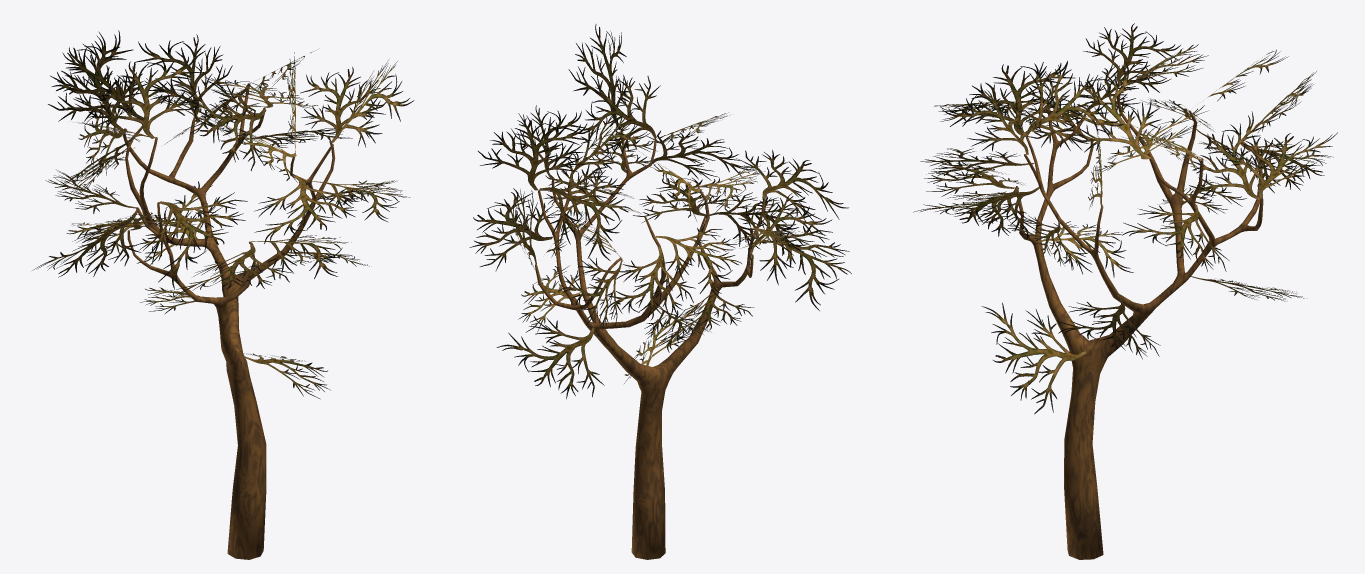
The model's file is Dead Tree.fbx.
The picture shows the model from 3 angles, left to right: view 1: azimuth 30°, elevation 25°; view 2: azimuth 150°, elevation 25°; view 3: azimuth 270°, elevation 25°; orthographic projection. The views are drawn at different scales.
Visible parts, largest first — view 1: Dead Tree; view 2: Dead Tree; view 3: Dead Tree.
Part boxes in pixels (x1,y1,x2,y2): Dead Tree: [32, 30, 414, 559]; Dead Tree: [469, 24, 851, 559]; Dead Tree: [913, 23, 1337, 559].
Size of the model in its own units: 7.57 by 7.89 by 10.1.
